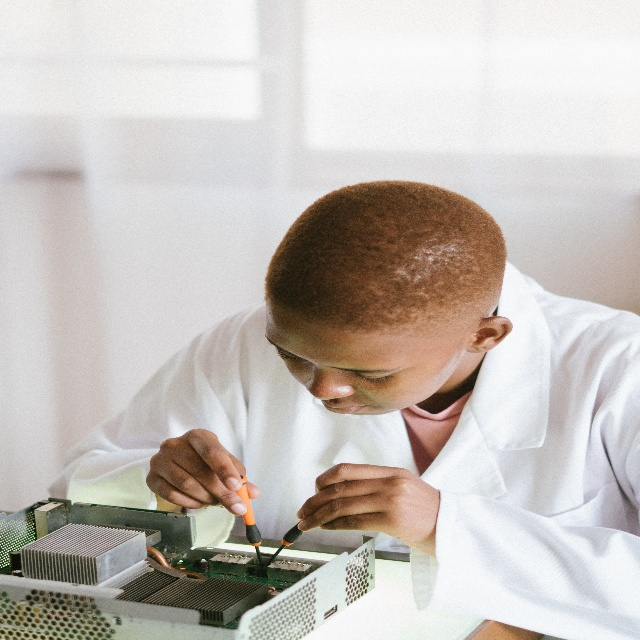Sin_guantes: (296, 462, 439, 557), (145, 427, 260, 516)
